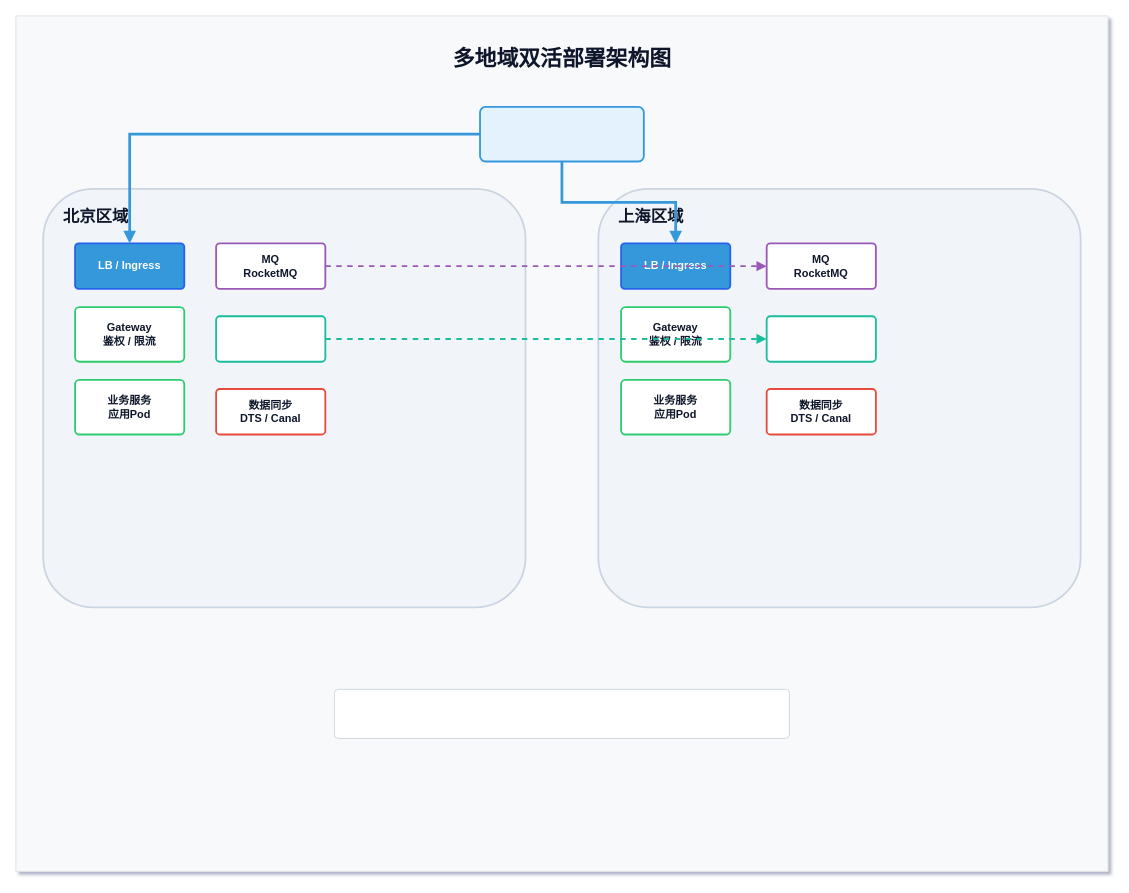
Some shapes in this 1129 by 893 pixel diagram are drawn without their labels. The shapes that lost their labels are listed below. From the top down, each one's centre as x and y in pixels, then its label:
the point at 561,134: 全局负载均衡 (DNS/GTM)
the point at 270,338: 数据库 MySQL主库
the point at 820,338: 数据库 MySQL从库
the point at 561,713: 图例：蓝色粗线=用户流量 紫色虚线=MQ同步 青色虚线=数据库同步
